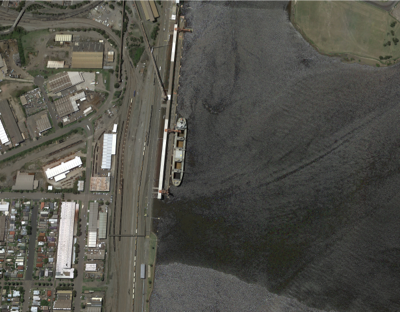boat: (171, 118, 189, 187)
